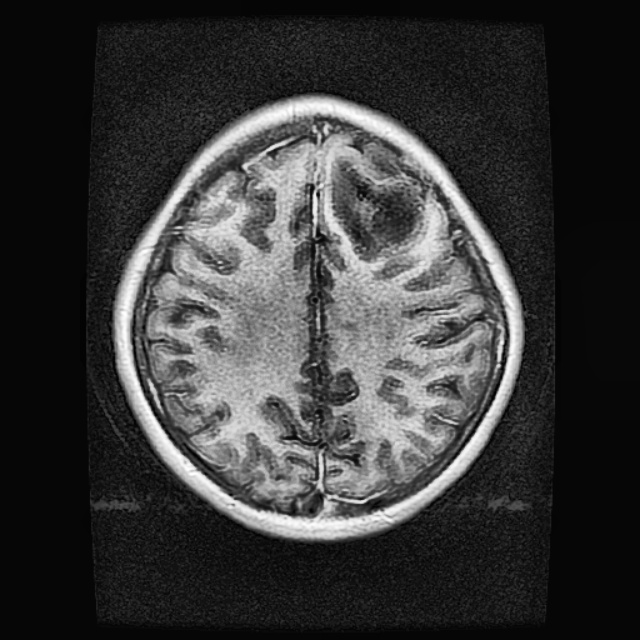Glioma: (325, 140, 437, 259)
